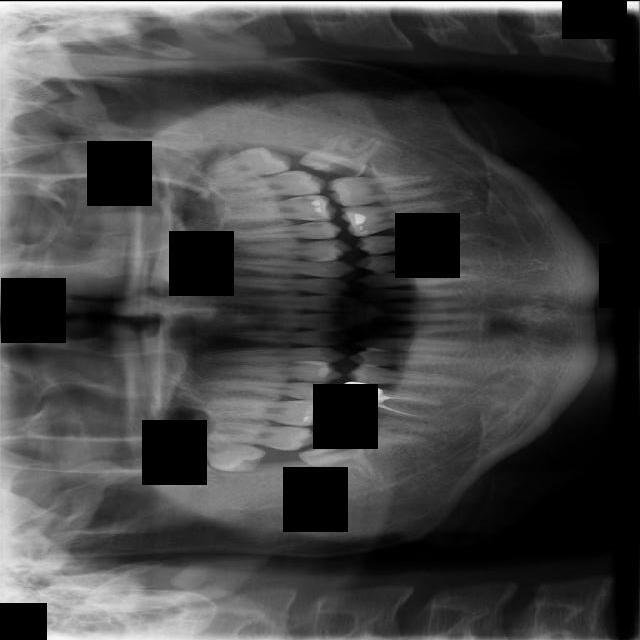3M ESPE Implant: (178, 420, 267, 483)
52: (329, 380, 388, 415), (339, 197, 386, 240), (278, 397, 323, 426), (288, 194, 337, 220), (291, 359, 341, 384), (325, 435, 358, 459), (323, 160, 362, 180)
73: (367, 383, 448, 425), (616, 14, 626, 20)
BioHorizons Implant: (194, 166, 329, 204)
BioLife Implant: (189, 140, 293, 188)
Biomet 3i Implant: (298, 124, 384, 182)
Blue Sky Bio Implant: (326, 173, 435, 207)
Caries: (195, 416, 319, 452)
Implant: (319, 405, 436, 450)
Keystone Dental Implant: (295, 429, 379, 498)
